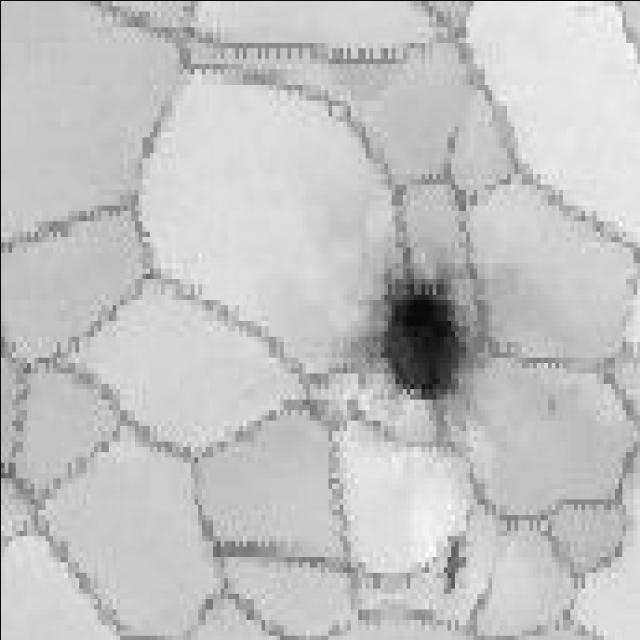good_void: (332, 254, 486, 407), (436, 534, 473, 592), (446, 122, 461, 151)
